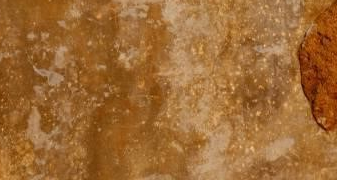Corrosion: (298, 1, 337, 133)
